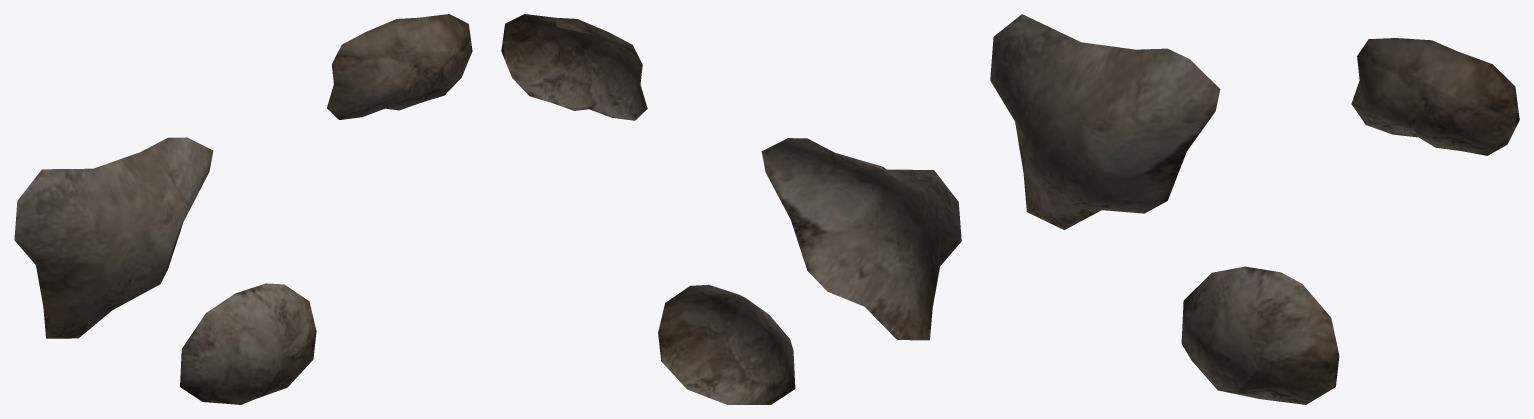
The model's file is prop_toujane_roadrock12.glb.
3 views of the same model, side by side, from view 1: azimuth 30°, elevation 25°; view 2: azimuth 150°, elevation 25°; view 3: azimuth 330°, elevation 25° (orthographic). The views are drawn at different scales.
Bounding box in the file's own units: 38.91 × 28.18 × 4.42.
Materials: 1 (1 with a texture image).
